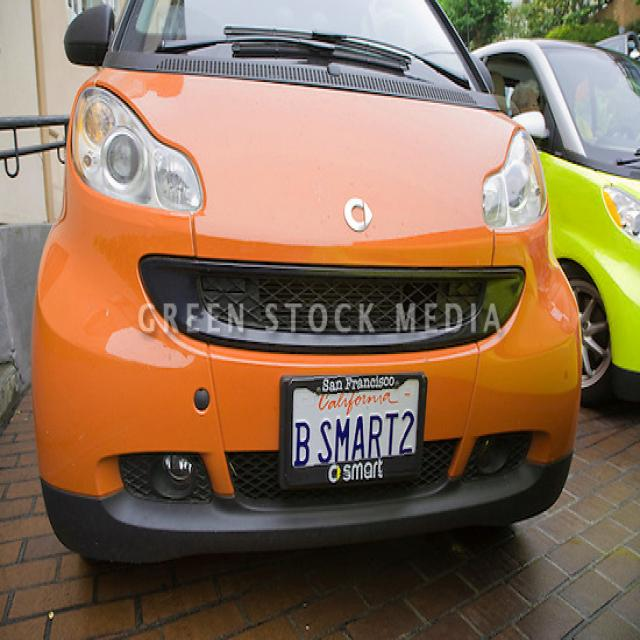licence: (280, 375, 422, 478)
